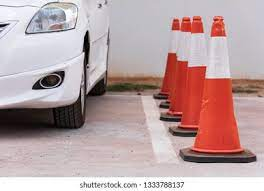car: (1, 1, 110, 130)
cone: (192, 16, 242, 154), (180, 17, 208, 130), (172, 18, 192, 116), (158, 18, 179, 98)
